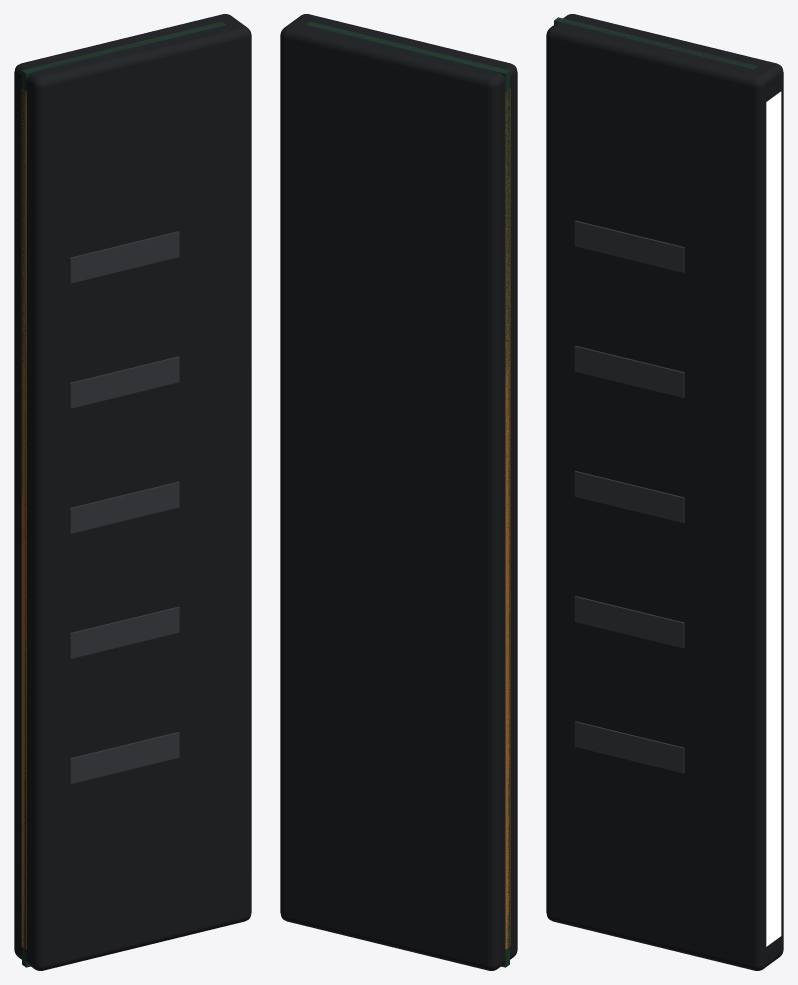
File: ram-heatsink-v1.glb
3 views of the same model, side by side, from view 1: azimuth 30°, elevation 25°; view 2: azimuth 150°, elevation 25°; view 3: azimuth 330°, elevation 25° (orthographic).
Parts seen in each view (by area): view 1: heatspreader__mesh, pcb__mesh; view 2: heatspreader__mesh, pcb__mesh; view 3: heatspreader__mesh, rgb_bar__mesh, pcb__mesh.
Boxes of the visible parts, x1=… form: heatspreader__mesh: x1=14, y1=14, x2=251, y2=970; pcb__mesh: x1=21, y1=21, x2=225, y2=967; heatspreader__mesh: x1=280, y1=14, x2=517, y2=970; pcb__mesh: x1=306, y1=21, x2=510, y2=967; heatspreader__mesh: x1=546, y1=14, x2=783, y2=970; rgb_bar__mesh: x1=766, y1=91, x2=781, y2=946; pcb__mesh: x1=554, y1=17, x2=757, y2=69.
Size of the model in its own units: 0.034 by 0.1333 by 0.00729.
